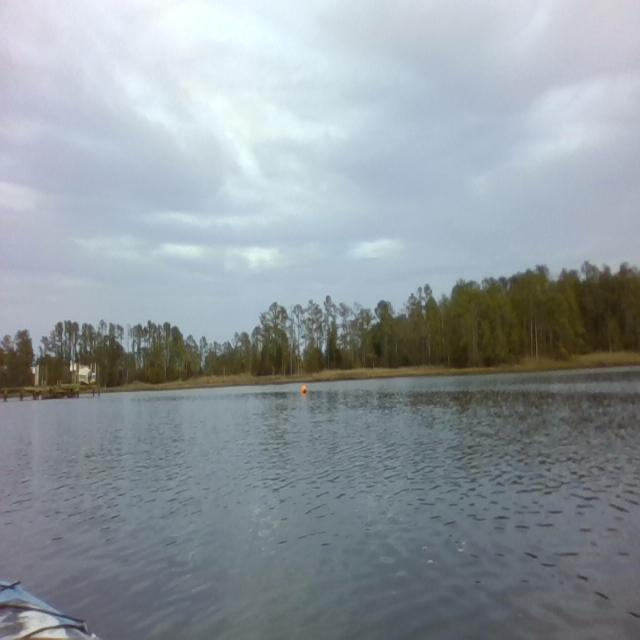Buoy: (300, 381, 308, 396)
